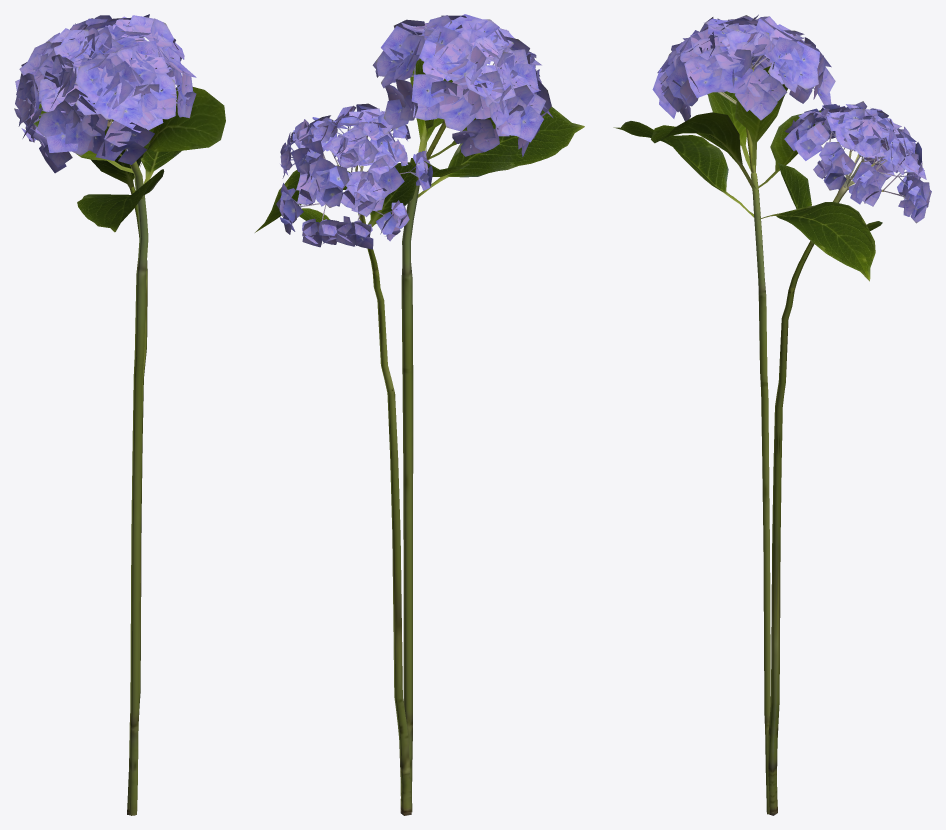
File: Hydrangea_bush_long_purple.glb
3 renders of one model, left to right at view 1: azimuth 30°, elevation 25°; view 2: azimuth 150°, elevation 25°; view 3: azimuth 270°, elevation 25°, orthographic. The views are drawn at different scales.
Visible parts, largest first — view 1: BUSHEKK; view 2: BUSHEKK; view 3: BUSHEKK.
Part boxes in pixels (x1,y1,x2,y2): BUSHEKK: (14, 14, 225, 815); BUSHEKK: (255, 14, 584, 815); BUSHEKK: (613, 14, 931, 815).
Bounding box in the file's own units: 1.48 × 5.02 × 1.87.
Materials: 1 (1 with a texture image).
